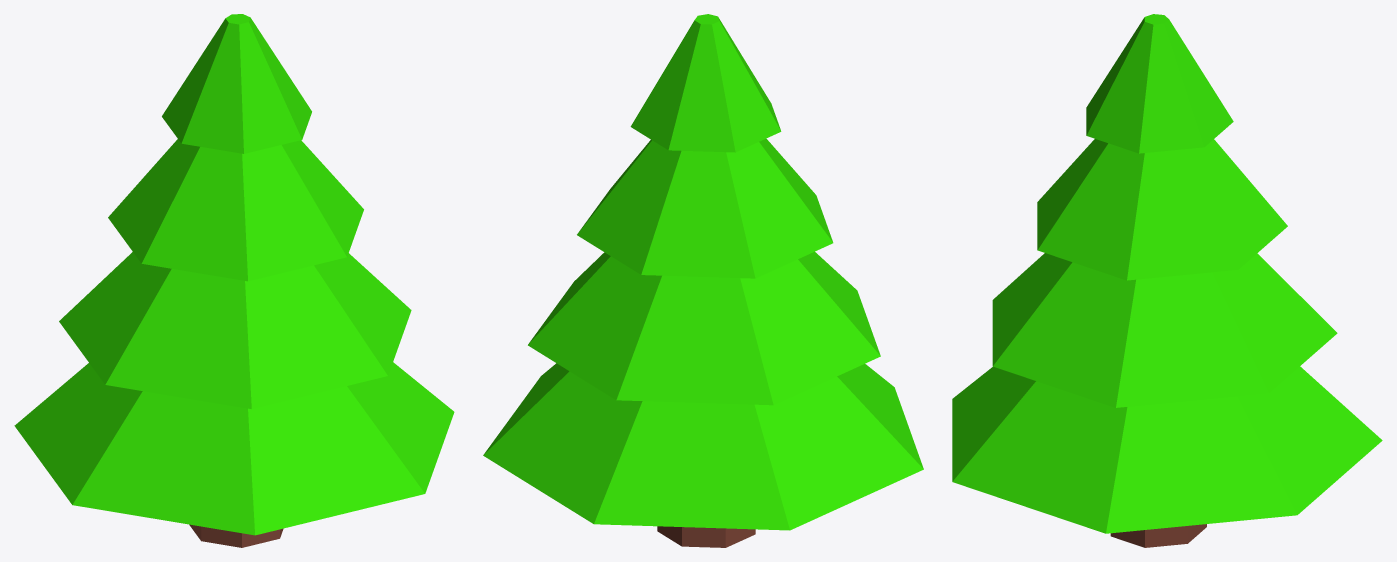
Rendered from Pino_2.fbx.
The picture shows the model from 3 angles, left to right: view 1: azimuth 30°, elevation 25°; view 2: azimuth 150°, elevation 25°; view 3: azimuth 270°, elevation 25°; orthographic projection.
Visible parts, largest first — view 1: Cylinder.001; view 2: Cylinder.001; view 3: Cylinder.001.
Boxes of the visible parts, x1=… form: Cylinder.001: x1=14, y1=14, x2=454, y2=547; Cylinder.001: x1=483, y1=14, x2=923, y2=547; Cylinder.001: x1=952, y1=14, x2=1382, y2=547.
Size of the model in its own units: 1.4 by 1.78 by 1.37.
